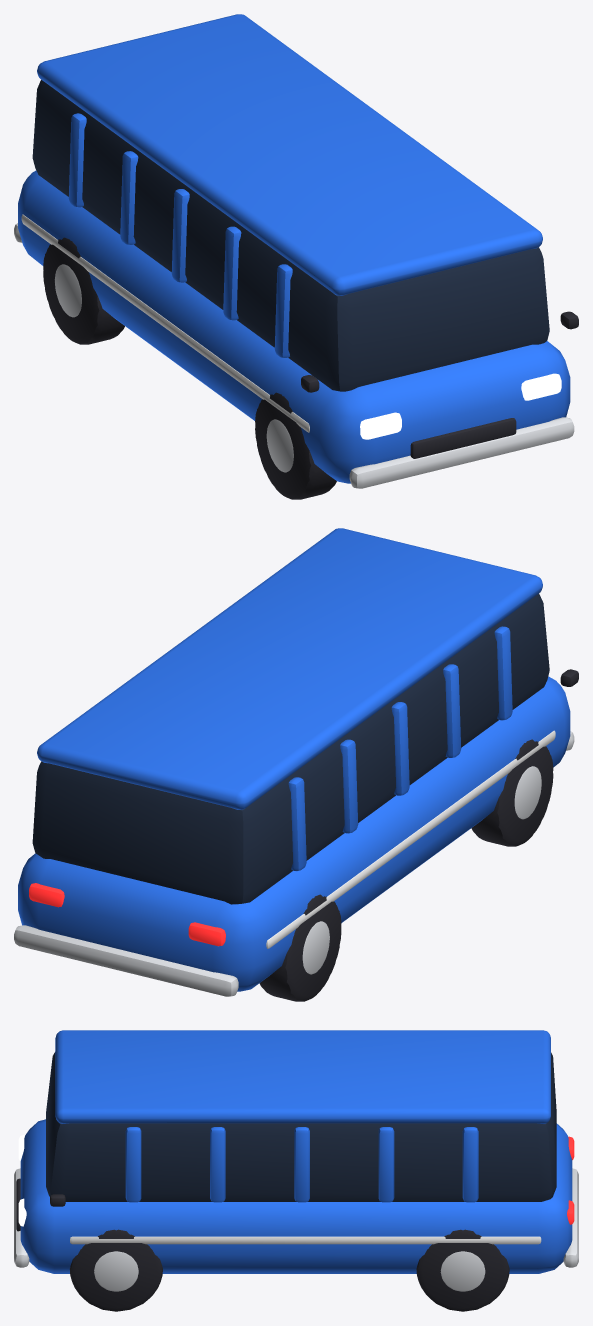
The model's file is ToyBus.fbx.
The picture shows the model from 3 angles, top to bottom: view 1: azimuth 30°, elevation 25°; view 2: azimuth 150°, elevation 25°; view 3: azimuth 270°, elevation 25°; orthographic projection. The views are drawn at different scales.
Parts seen in each view (by area): view 1: ToyBus; view 2: ToyBus; view 3: ToyBus.
Boxes of the visible parts, x1,y1,x2,y2 form: ToyBus: [14, 14, 578, 499]; ToyBus: [14, 528, 578, 1001]; ToyBus: [14, 1030, 578, 1311].
Size of the model in its own units: 1.14 by 0.9548 by 2.51.
